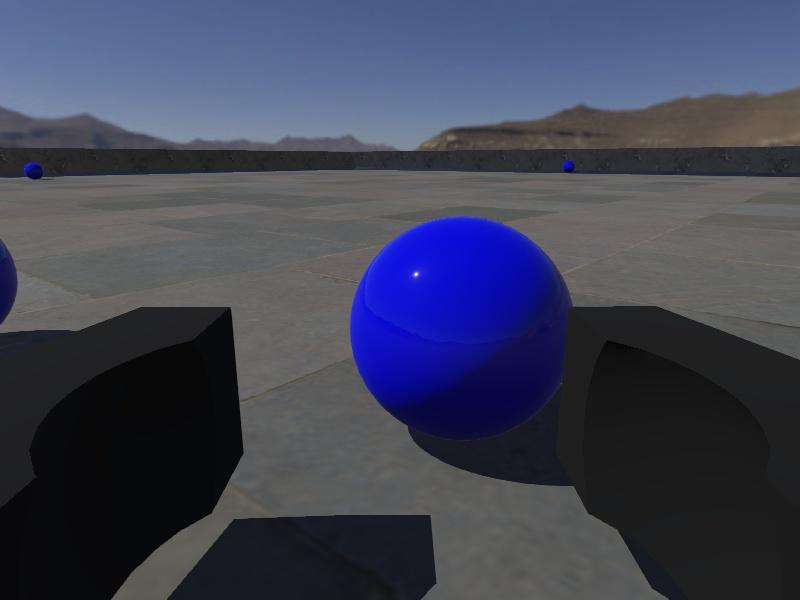blue ball: (24, 162, 46, 182), (562, 159, 575, 172)
